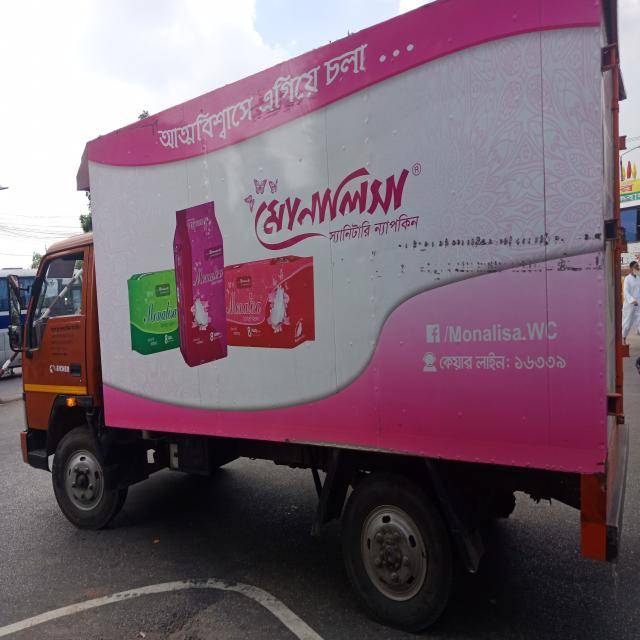truck: (23, 11, 636, 618)
